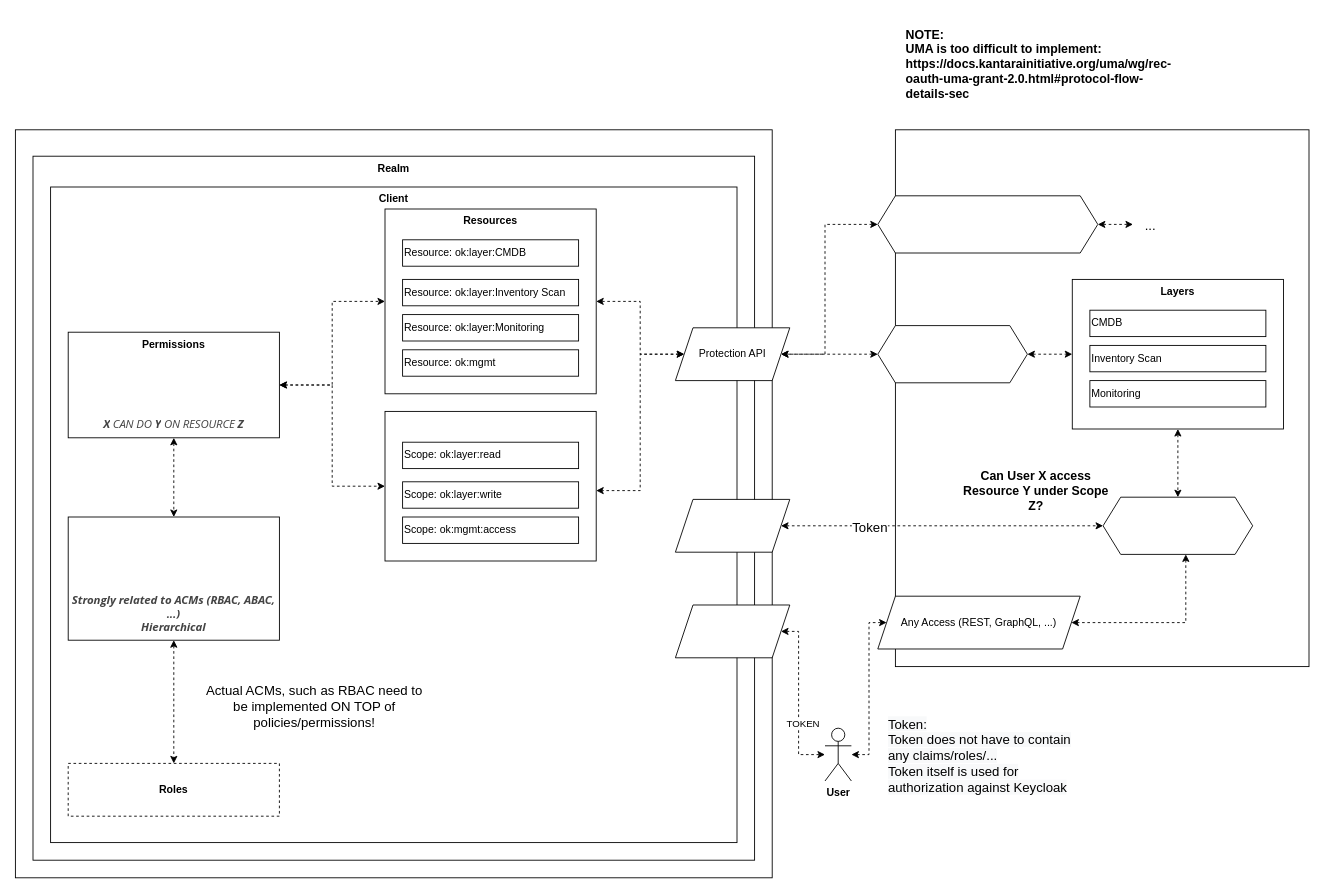
Image size: 1324x893. Some labels were removed from this diagram. The box of each missing label's shape, as (x1, y1, x2, y2) in pixels:
[Other-Resources]-2-Keycloak-Resource Sync: (877, 195, 1098, 253)
Authentication API: (675, 604, 790, 658)
Authorization API: (675, 499, 790, 552)
Keycloak: (15, 129, 772, 878)
Layer-2-Keycloak-Resource Sync: (877, 325, 1027, 383)
omnikeeper: (895, 129, 1309, 667)
Policies: (67, 516, 279, 640)
Policy Enforcer: (1102, 496, 1253, 554)
Scopes: (384, 411, 596, 561)
